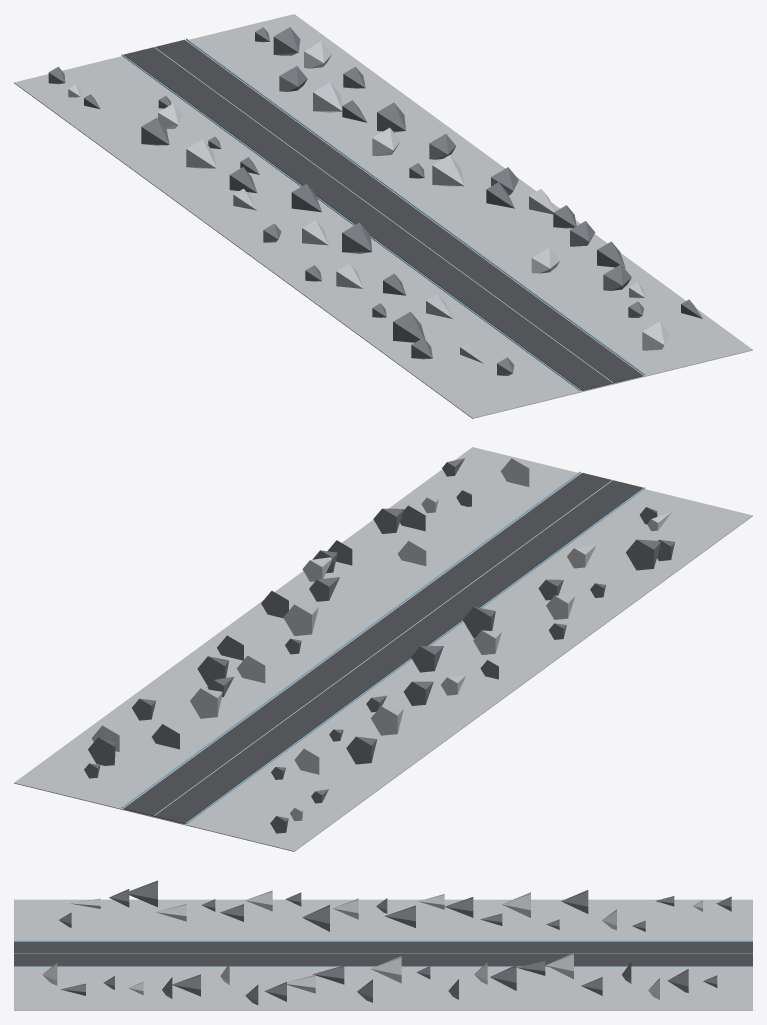
Rendered from mountain_night_track.glb.
3 views of the same model, one above another, from view 1: azimuth 30°, elevation 25°; view 2: azimuth 150°, elevation 25°; view 3: azimuth 270°, elevation 25° (orthographic). The views are drawn at different scales.
Parts seen in each view (by area): view 1: part_0, part_1, part_4, part_3, part_29, part_24, part_12, part_41, part_2, part_38, part_37; view 2: part_0, part_1, part_4, part_3, part_29, part_12, part_41, part_38, part_2, part_24; view 3: part_0, part_1, part_3, part_2, part_4, part_29, part_12, part_24, part_38, part_41, part_30, part_37 (+11 smaller).
Part boxes in pixels (x1,y1,x2,y2): part_0: [14, 14, 752, 418]; part_1: [124, 39, 643, 390]; part_4: [186, 38, 645, 375]; part_3: [121, 54, 580, 390]; part_29: [432, 155, 464, 186]; part_24: [342, 222, 372, 253]; part_12: [393, 311, 425, 342]; part_41: [313, 82, 342, 112]; part_2: [154, 47, 612, 382]; part_38: [186, 139, 216, 168]; part_37: [377, 102, 405, 132]; part_0: [14, 447, 752, 851]; part_1: [123, 472, 642, 823]; part_4: [121, 471, 580, 808]; part_3: [186, 487, 645, 823]; part_29: [283, 604, 318, 635]; part_12: [626, 539, 660, 570]; part_41: [190, 688, 222, 718]; part_38: [371, 706, 403, 735]; part_2: [154, 480, 612, 815]; part_24: [463, 607, 495, 638]; part_0: [14, 899, 752, 1010]; part_1: [14, 942, 752, 965]; part_3: [14, 940, 752, 941]; part_2: [14, 953, 752, 953]; part_4: [14, 966, 752, 966]; part_29: [370, 956, 401, 983]; part_12: [129, 880, 157, 907]; part_24: [302, 905, 329, 931]; part_38: [502, 892, 530, 917]; part_41: [546, 953, 573, 979]; part_30: [384, 905, 415, 927]; part_37: [490, 965, 516, 990].
Bounding box in the file's own units: 60 × 9.16 × 170.
